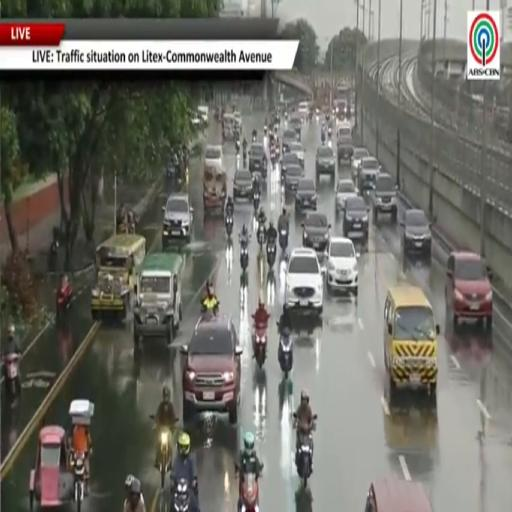car: (181, 314, 242, 424), (445, 251, 492, 328), (284, 248, 323, 314), (365, 477, 433, 511), (327, 237, 358, 295), (162, 194, 193, 247), (400, 210, 431, 259), (370, 172, 397, 221), (302, 212, 331, 252), (343, 197, 368, 242), (336, 179, 359, 215), (357, 157, 380, 191), (295, 178, 317, 212), (249, 143, 267, 178), (316, 146, 335, 179), (233, 169, 252, 200), (351, 148, 369, 178), (285, 165, 303, 193), (282, 153, 301, 179), (282, 128, 299, 154), (337, 137, 353, 164), (205, 146, 223, 168), (290, 142, 305, 167), (289, 117, 302, 140), (337, 122, 352, 138), (198, 106, 208, 125), (298, 102, 309, 119), (233, 111, 242, 130)
jeepney: (134, 252, 184, 348), (91, 234, 145, 321), (203, 165, 227, 216), (222, 113, 237, 141)
motorcycle: (296, 414, 317, 487), (71, 453, 85, 511), (3, 352, 20, 398), (239, 473, 258, 511), (278, 334, 293, 378), (172, 478, 190, 511), (254, 324, 267, 367), (56, 285, 72, 316), (47, 240, 59, 271), (201, 300, 219, 314), (267, 242, 276, 268), (257, 224, 266, 250), (240, 244, 248, 271), (252, 191, 261, 212), (279, 230, 288, 251), (225, 215, 233, 237), (271, 149, 276, 166), (243, 148, 247, 167), (243, 152, 247, 168), (236, 140, 240, 155), (328, 127, 332, 138), (328, 139, 332, 149), (309, 111, 312, 122), (150, 415, 155, 421), (264, 125, 267, 135), (252, 135, 256, 142)
